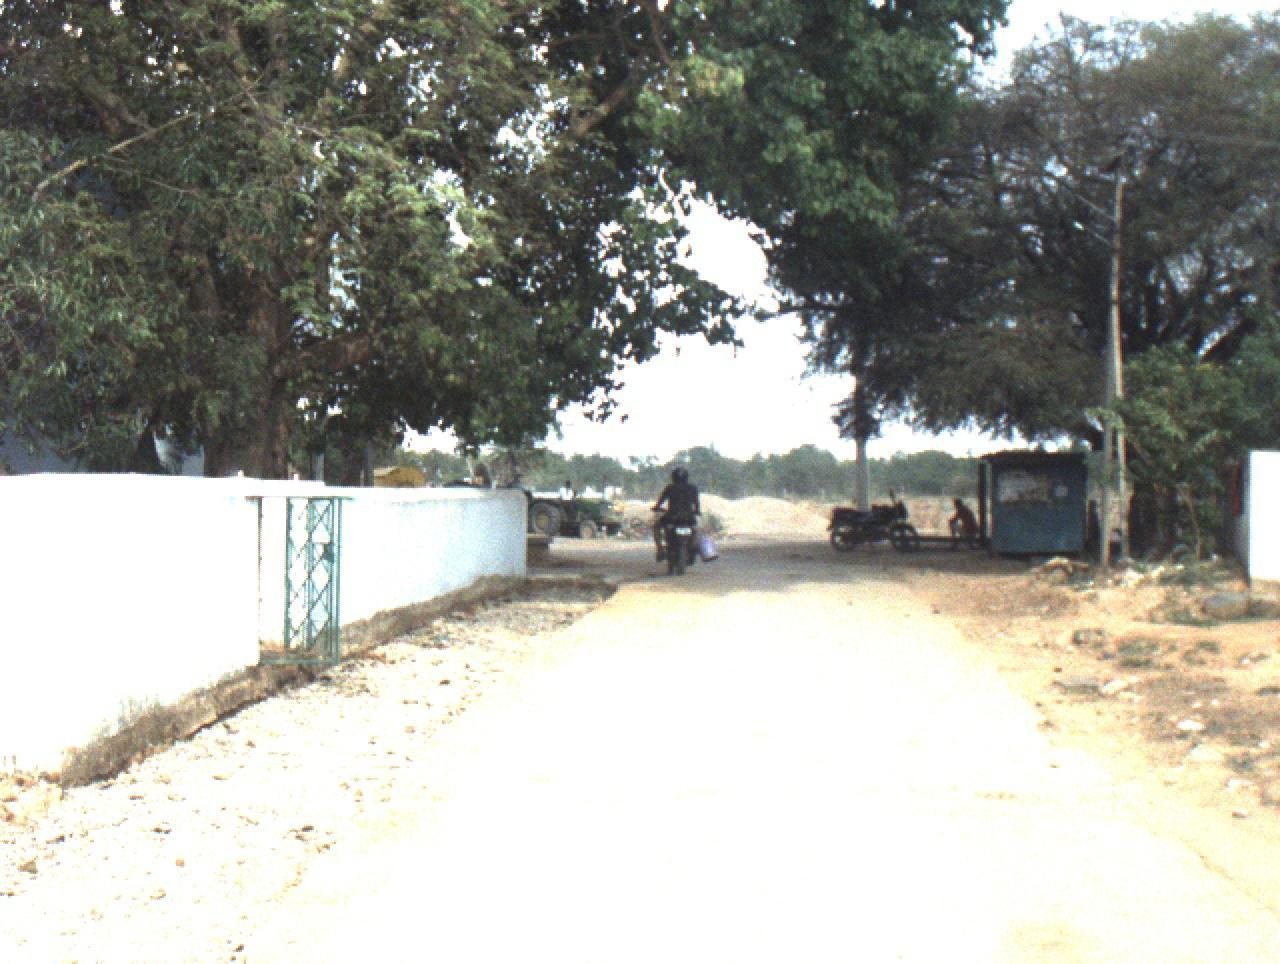off: (140, 81, 1280, 964)
